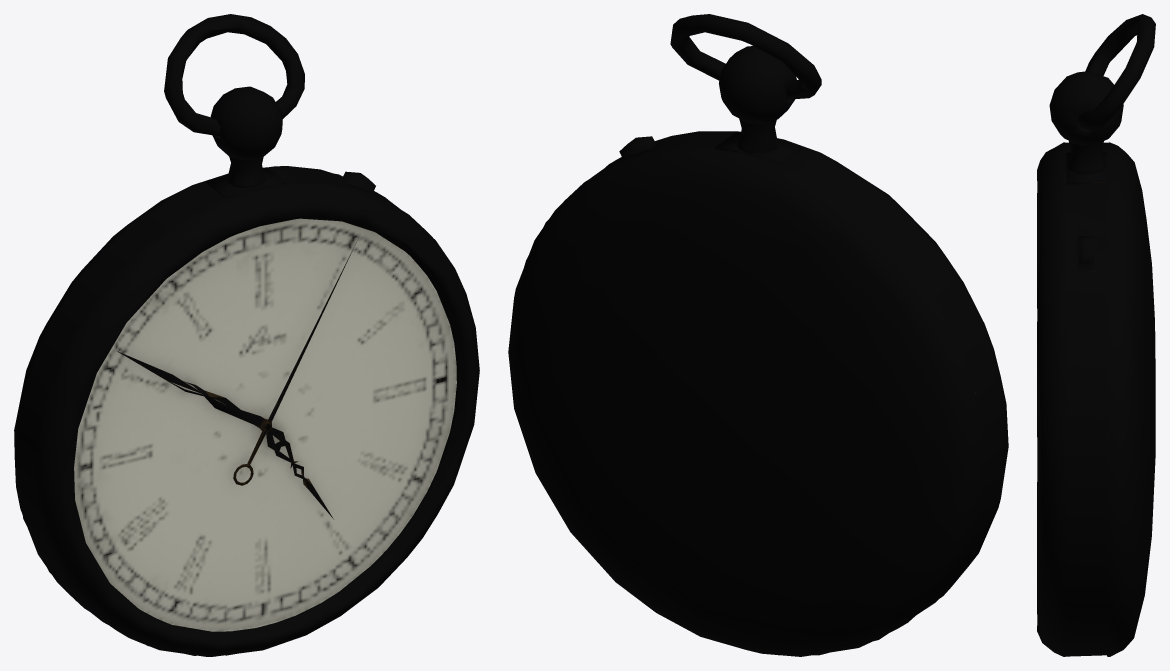
The model's file is PocketWatch.fbx.
3 views of the same model, side by side, from view 1: azimuth 30°, elevation 25°; view 2: azimuth 150°, elevation 25°; view 3: azimuth 270°, elevation 25° (orthographic). The views are drawn at different scales.
Visible parts, largest first — view 1: PocketWatch; view 2: PocketWatch; view 3: PocketWatch.
Part boxes in pixels (box(x1,y1,x2,y2)): PocketWatch: box(14, 14, 479, 656); PocketWatch: box(508, 14, 1008, 656); PocketWatch: box(1037, 14, 1155, 656).
Bounding box in the file's own units: 0.0577 × 0.0756 × 0.0133.
Materials: 1 (1 with a texture image).
